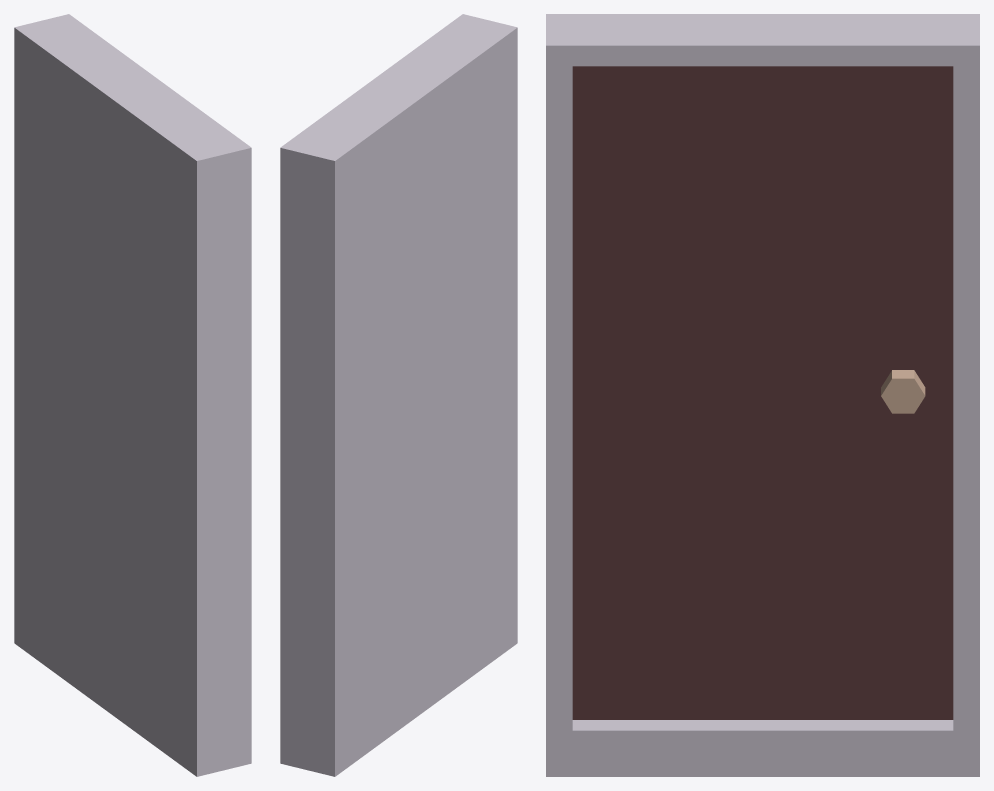
The model's file is door.dae.
The picture shows the model from 3 angles, left to right: view 1: azimuth 30°, elevation 25°; view 2: azimuth 150°, elevation 25°; view 3: azimuth 270°, elevation 25°; orthographic projection. The views are drawn at different scales.
Visible parts, largest first — view 1: Cube_001; view 2: Cube_001; view 3: Cube_001.
Part boxes in pixels (x1,y1,x2,y2): Cube_001: (14, 14, 251, 776); Cube_001: (280, 14, 517, 776); Cube_001: (546, 14, 979, 776).
Size of the model in its own units: 0.745 by 4.29 by 7.99.
